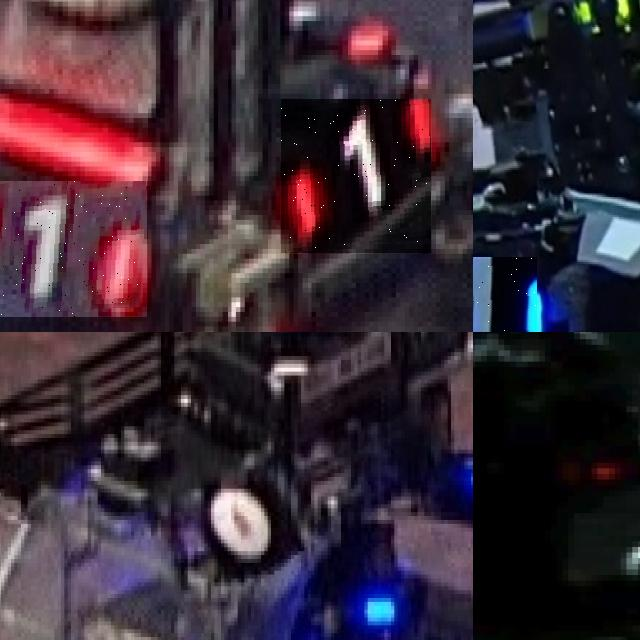B4: (473, 256, 537, 332)
R1: (281, 99, 431, 253), (0, 181, 147, 317)
